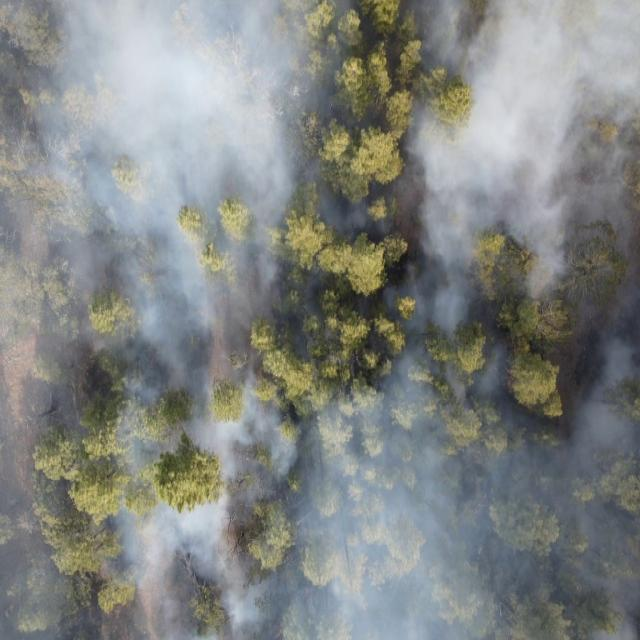fire: (269, 622, 285, 640), (360, 602, 370, 616)
